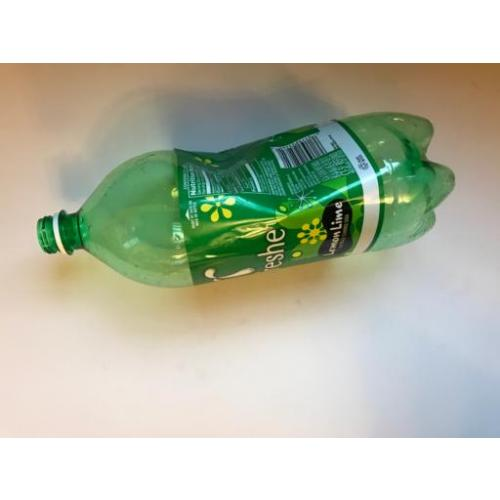plastic: (40, 112, 456, 286)
